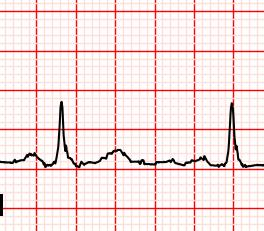LVH: (89, 146, 152, 168)
